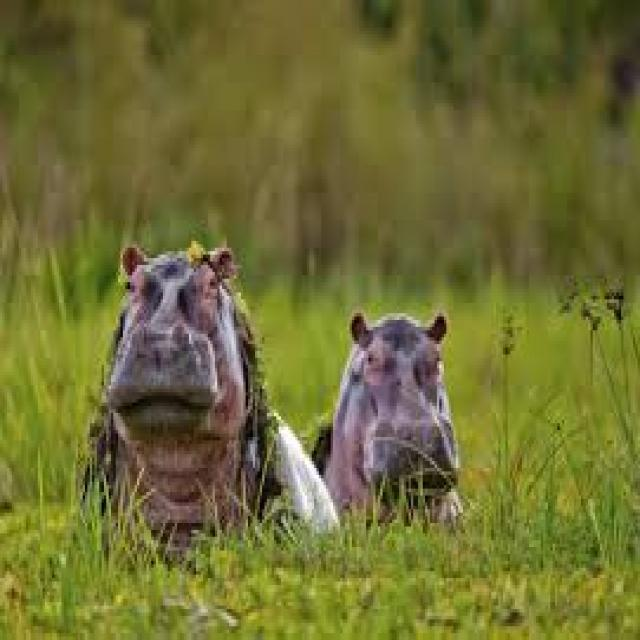Hippopotamus: (86, 233, 328, 553), (321, 295, 462, 533)
